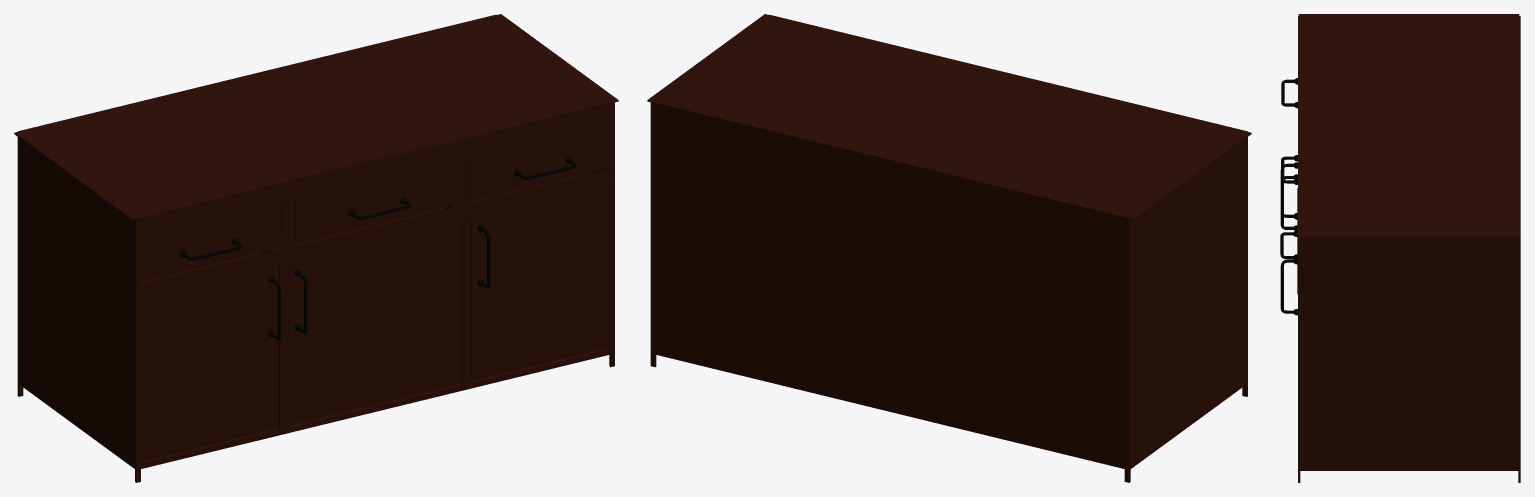
Rendered from cabient.fbx.
3 views of the same model, side by side, from view 1: azimuth 30°, elevation 25°; view 2: azimuth 150°, elevation 25°; view 3: azimuth 270°, elevation 25° (orthographic). The views are drawn at different scales.
Visible parts, largest first — view 1: BODY, polySurface3, polySurface1, polySurface5, polySurface9, polySurface7, polySurface11; view 2: BODY; view 3: BODY, polySurface2, polySurface4.
Boxes of the visible parts, bbox=[...] form: BODY: bbox=[14, 14, 618, 482]; polySurface3: bbox=[289, 222, 461, 425]; polySurface1: bbox=[471, 186, 607, 380]; polySurface5: bbox=[143, 267, 278, 460]; polySurface9: bbox=[281, 161, 455, 243]; polySurface7: bbox=[469, 123, 612, 201]; polySurface11: bbox=[141, 204, 281, 281]; BODY: bbox=[647, 14, 1251, 482]; BODY: bbox=[1298, 14, 1520, 482]; polySurface2: bbox=[1280, 259, 1297, 315]; polySurface4: bbox=[1280, 174, 1297, 230].
Size of the model in its own units: 241 by 125 by 110.
